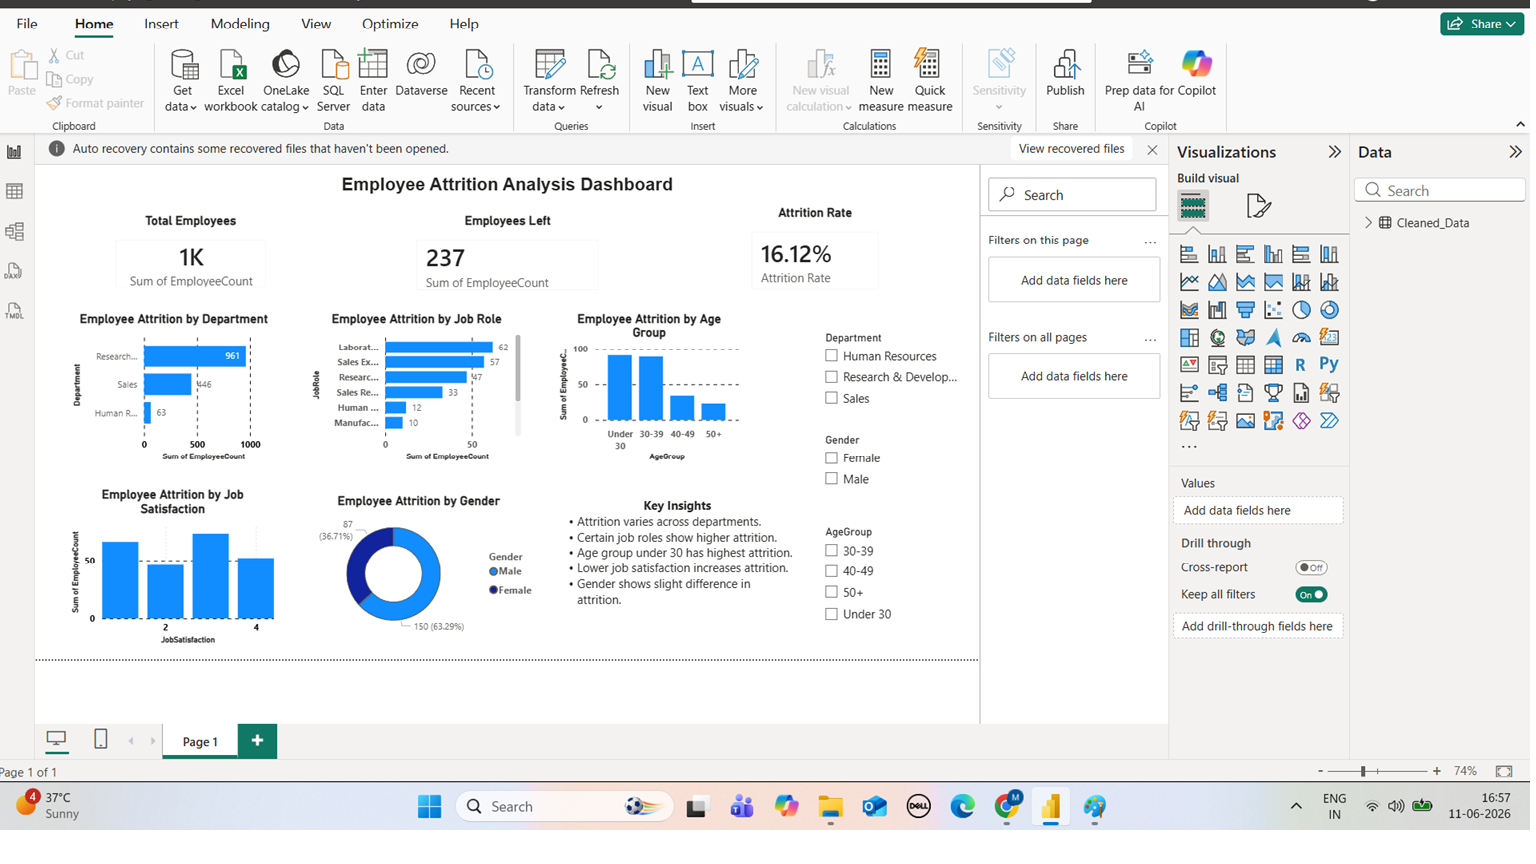

The dashboard page shown, as its layout file describes it:
{"tool":"powerbi","page":{"name":"Page 1","canvas":[1280,720],"ordinal":0},"visuals":[{"type":"clusteredBarChart","title":"Employee Attrition by Job Role","fields":{"Category":["Cleaned_Data.JobRole"],"Y":["Sum(Cleaned_Data.EmployeeCount)"]},"box":[371.2,243.9,292.6,210],"z":1000},{"type":"clusteredColumnChart","title":"Employee Attrition by Age Group","fields":{"Category":["Cleaned_Data.AgeGroup"],"Y":["Sum(Cleaned_Data.EmployeeCount)"]},"box":[705.8,243.9,253.3,210],"z":2000},{"type":"donutChart","title":"Employee Attrition by Gender","fields":{"Category":["Cleaned_Data.Gender"],"Y":["Sum(Cleaned_Data.EmployeeCount)"]},"box":[352.2,493.1,336,201.9],"z":3000},{"type":"clusteredColumnChart","title":"Employee Attrition by Job Satisfaction","fields":{"Category":["Cleaned_Data.JobSatisfaction"],"Y":["Sum(Cleaned_Data.EmployeeCount)"]},"box":[44.7,485,284.5,219.5],"z":4000},{"type":"cardVisual","title":"Employees Left","fields":{"Data":["Sum(Cleaned_Data.EmployeeCount)"]},"box":[499.9,109.7,281.8,123.3],"z":6000},{"type":"cardVisual","title":"Attrition Rate","fields":{"Data":["Cleaned_Data.Attrition Rate"]},"box":[953.8,98.9,207.3,134.1],"z":6001},{"type":"textbox","box":[0,52.8,1280.3,47.4],"z":6002},{"type":"slicer","fields":{"Values":["Cleaned_Data.Department"]},"box":[1058.1,266.9,201.9,139.5],"z":6003},{"type":"slicer","fields":{"Values":["Cleaned_Data.Gender"]},"box":[1058.1,406.4,150.4,126],"z":6004},{"type":"slicer","fields":{"Values":["Cleaned_Data.AgeGroup"]},"box":[1058.1,532.4,153.1,172.1],"z":6005},{"type":"clusteredBarChart","title":"Employee Attrition by Department","fields":{"Category":["Cleaned_Data.Department"],"Y":["Sum(Cleaned_Data.EmployeeCount)"]},"box":[47,244,282,210],"z":6006},{"type":"cardVisual","title":"Total Employees","fields":{"Data":["Sum(Cleaned_Data.EmployeeCount)"]},"box":[92.1,109.7,238.4,119.2],"z":6007},{"type":"textbox","box":[705.8,493.1,329.2,185.6],"z":6008}]}

Visuals, with their boxes on the page's 1280x720 design canvas (x1, y1, x2, y2). These are canvas units, not pixel positions in the 1536x864 screenshot, which may show the page scaled, cropped or inside an application window:
"Employee Attrition by Job Role" clusteredBarChart: bbox=(371, 244, 664, 454)
"Employee Attrition by Age Group" clusteredColumnChart: bbox=(706, 244, 959, 454)
"Employee Attrition by Gender" donutChart: bbox=(352, 493, 688, 695)
"Employee Attrition by Job Satisfaction" clusteredColumnChart: bbox=(45, 485, 329, 704)
"Employees Left" cardVisual: bbox=(500, 110, 782, 233)
"Attrition Rate" cardVisual: bbox=(954, 99, 1161, 233)
textbox: bbox=(0, 53, 1280, 100)
slicer - Cleaned_Data.Department: bbox=(1058, 267, 1260, 406)
slicer - Cleaned_Data.Gender: bbox=(1058, 406, 1208, 532)
slicer - Cleaned_Data.AgeGroup: bbox=(1058, 532, 1211, 704)
"Employee Attrition by Department" clusteredBarChart: bbox=(47, 244, 329, 454)
"Total Employees" cardVisual: bbox=(92, 110, 330, 229)
textbox: bbox=(706, 493, 1035, 679)
